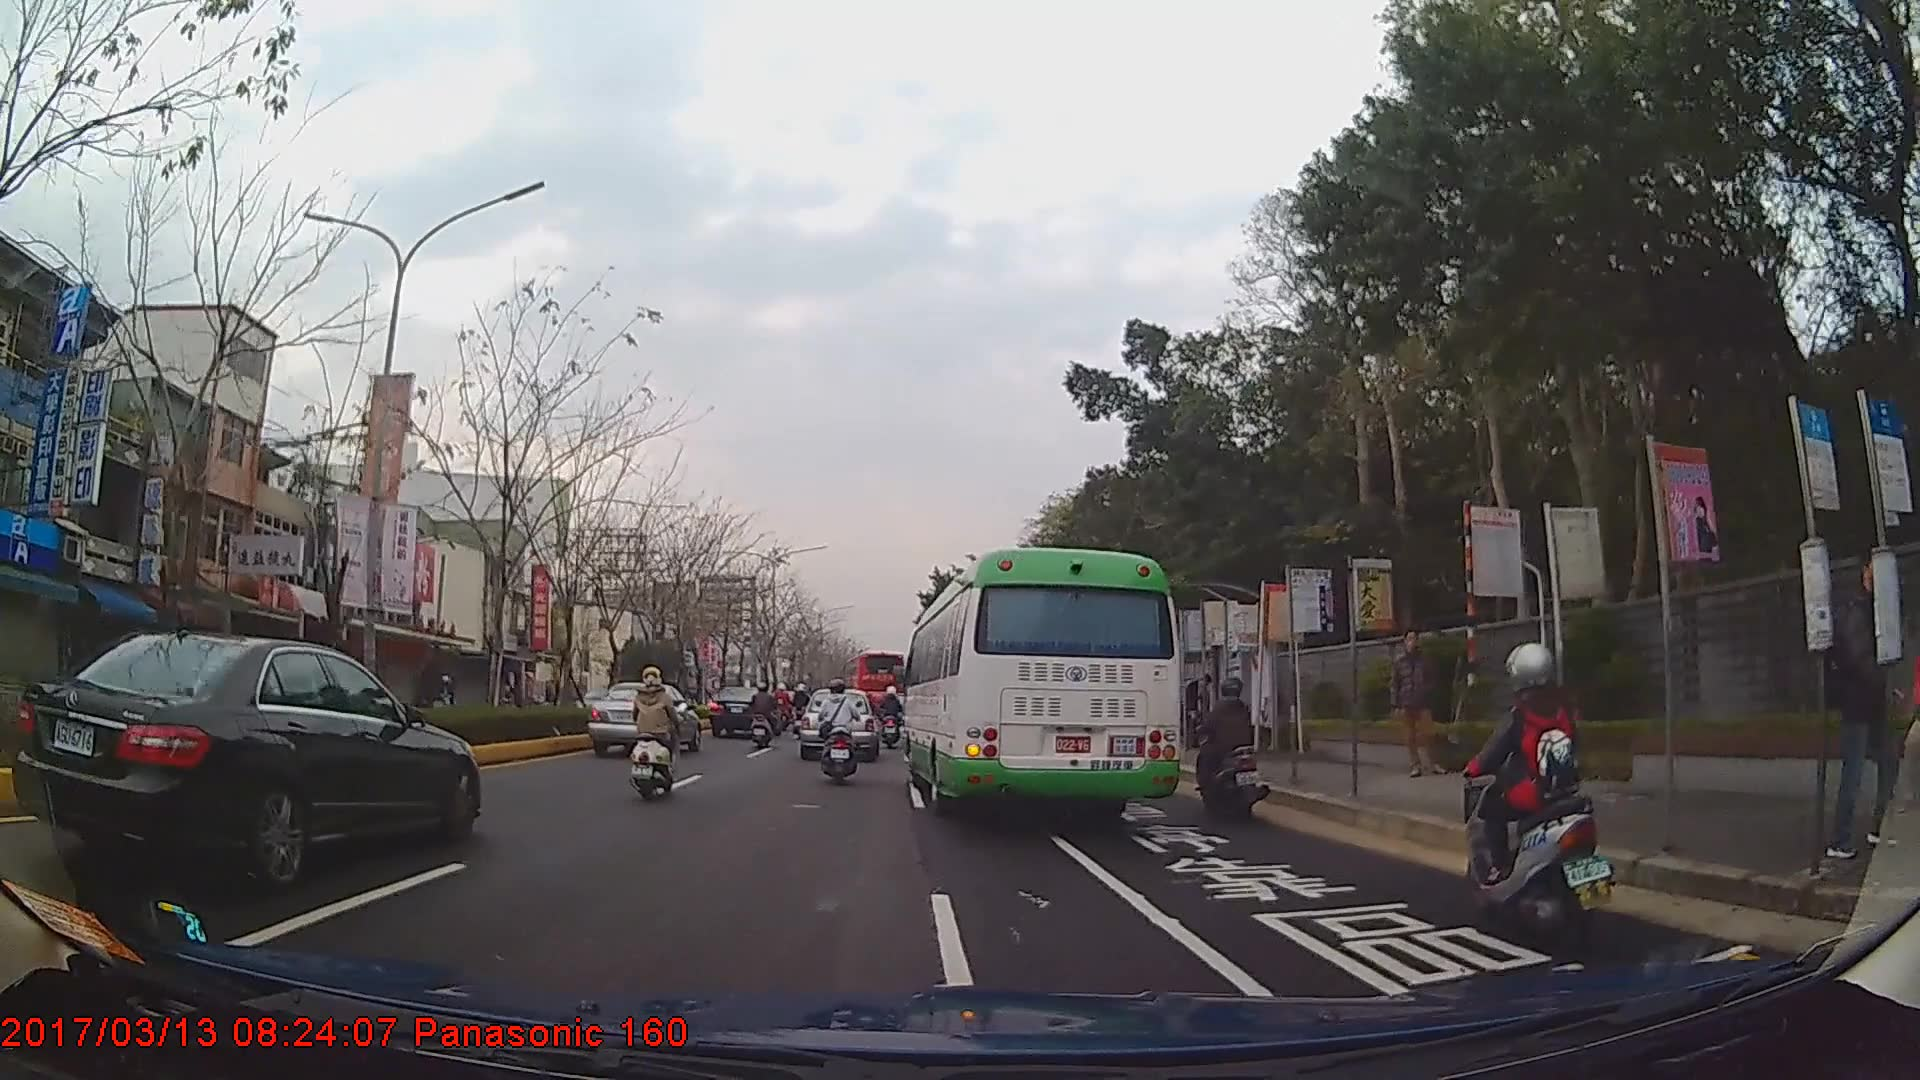pedestrian: (1829, 537, 1892, 862), (1392, 627, 1443, 776)
rider: (1458, 641, 1614, 936), (1190, 680, 1266, 822), (626, 669, 679, 801), (815, 679, 863, 783), (751, 681, 780, 752), (878, 685, 905, 736), (434, 675, 461, 708), (791, 683, 812, 724)
vehicle: (22, 628, 480, 887), (897, 545, 1181, 825), (585, 679, 701, 752), (800, 686, 879, 760), (839, 649, 903, 716), (708, 682, 777, 738)
